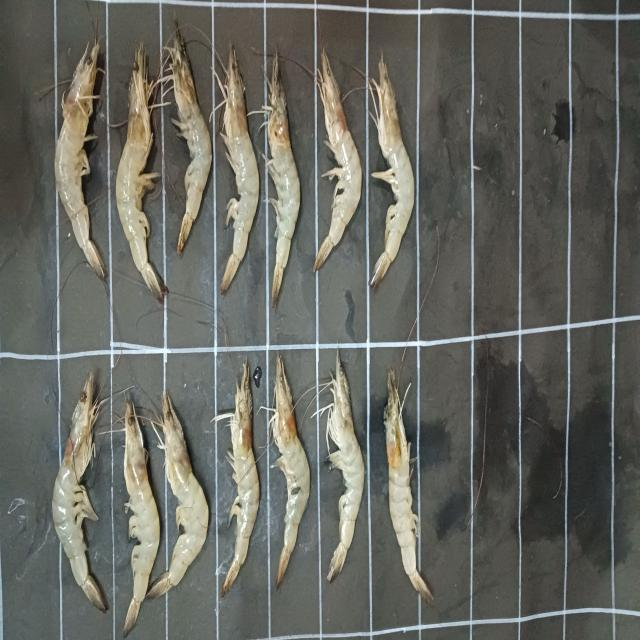shrimp: (116, 44, 168, 303), (146, 392, 209, 598), (52, 374, 106, 611), (55, 42, 106, 279), (384, 370, 434, 604), (315, 350, 365, 582), (166, 20, 212, 255), (214, 363, 260, 595), (369, 55, 414, 288), (314, 49, 361, 272), (218, 44, 259, 294), (262, 53, 300, 308), (270, 354, 310, 589), (124, 398, 160, 638)
